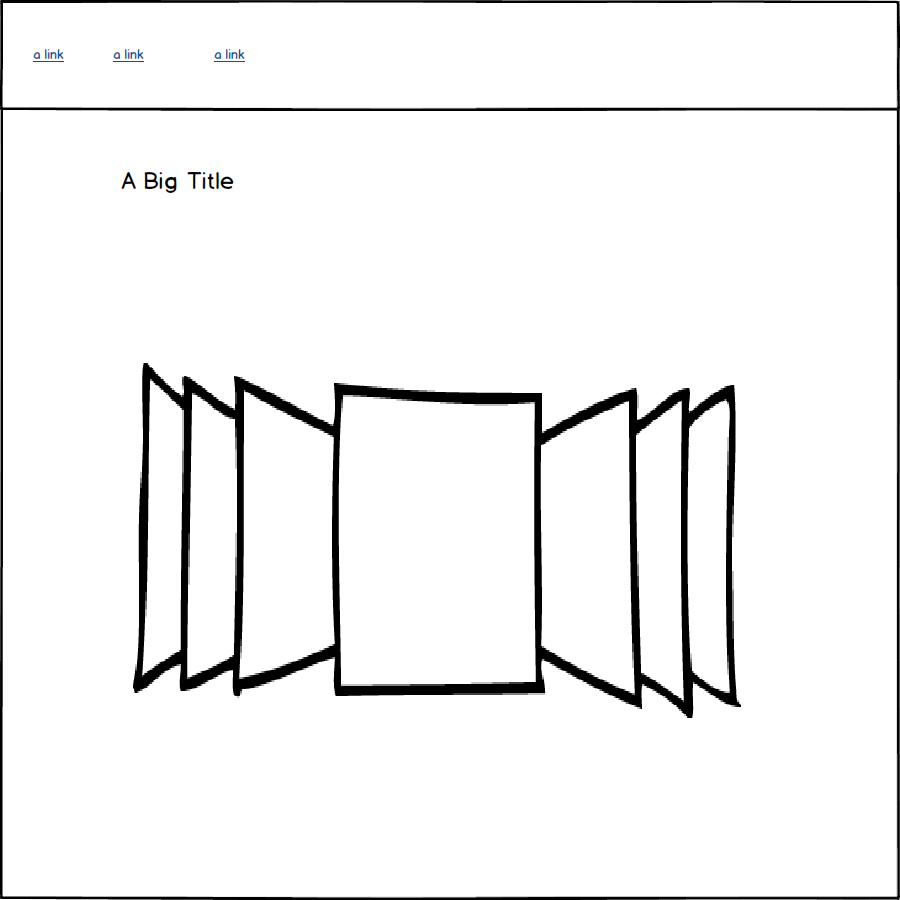h1: (112, 163, 249, 206)
navlink: (19, 44, 75, 64), (105, 43, 148, 69), (205, 44, 250, 64)
slideshow: (124, 348, 757, 726)
